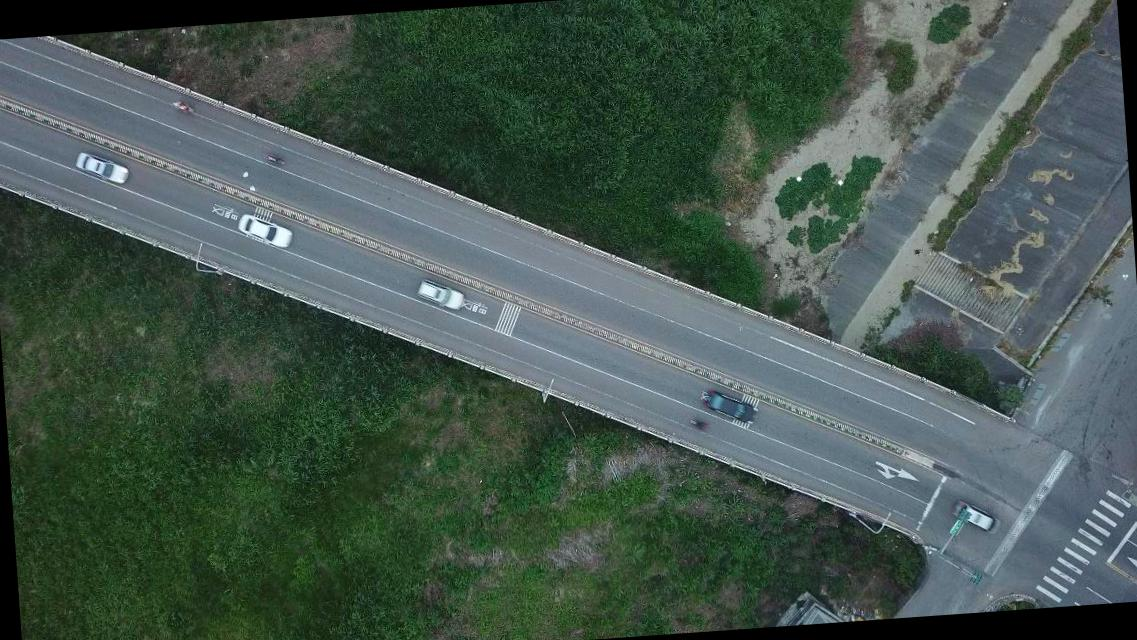vehicle: (235, 209, 296, 254), (72, 147, 134, 191), (702, 386, 757, 431), (414, 276, 468, 313), (952, 498, 1001, 538)
